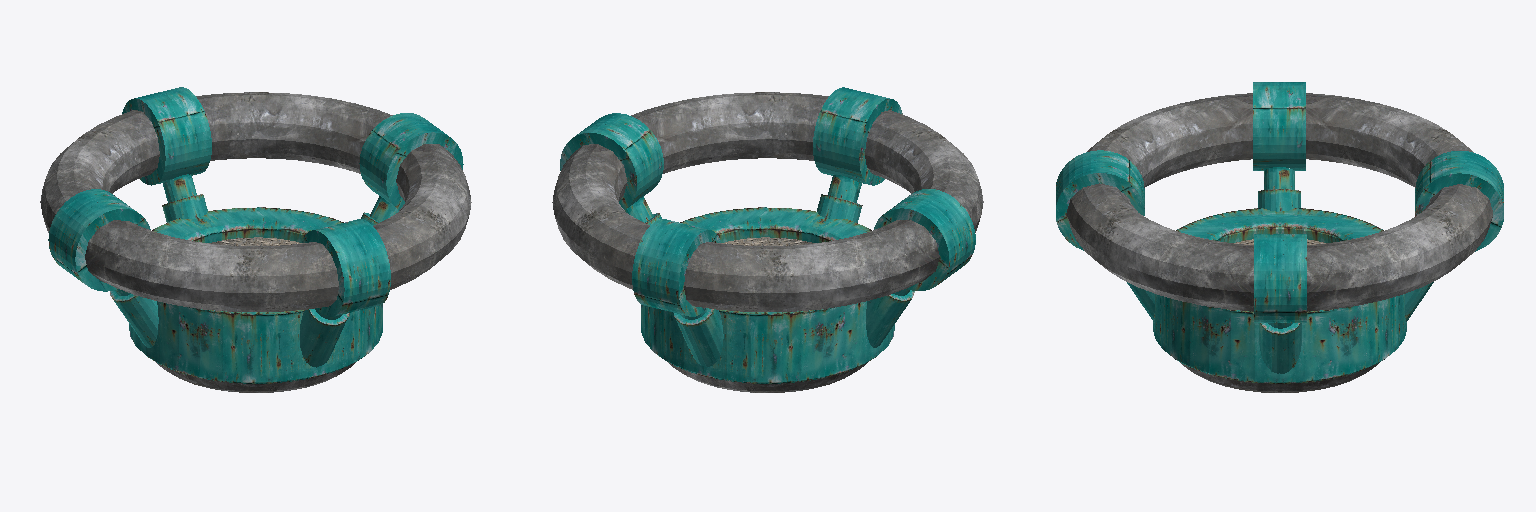
3 views of the same model, side by side, from view 1: azimuth 30°, elevation 25°; view 2: azimuth 150°, elevation 25°; view 3: azimuth 270°, elevation 25° (orthographic).
Parts seen in each view (by area): view 1: Cylinder.003, Cylinder.002, Cylinder.001_Cylinder.004; view 2: Cylinder.003, Cylinder.002, Cylinder.001_Cylinder.004; view 3: Cylinder.003, Cylinder.002, Cylinder.001_Cylinder.004.
Boxes of the visible parts, x1=… form: Cylinder.003: x1=40, y1=92, x2=471, y2=311; Cylinder.002: x1=48, y1=87, x2=463, y2=367; Cylinder.001_Cylinder.004: x1=129, y1=207, x2=382, y2=392; Cylinder.003: x1=552, y1=92, x2=983, y2=311; Cylinder.002: x1=560, y1=87, x2=975, y2=366; Cylinder.001_Cylinder.004: x1=641, y1=207, x2=894, y2=392; Cylinder.003: x1=1066, y1=93, x2=1492, y2=311; Cylinder.002: x1=1056, y1=82, x2=1503, y2=373; Cylinder.001_Cylinder.004: x1=1153, y1=208, x2=1406, y2=392.
Size of the model in its own units: 3.52 by 1.63 by 3.52.
Materials: 1 (1 with a texture image).